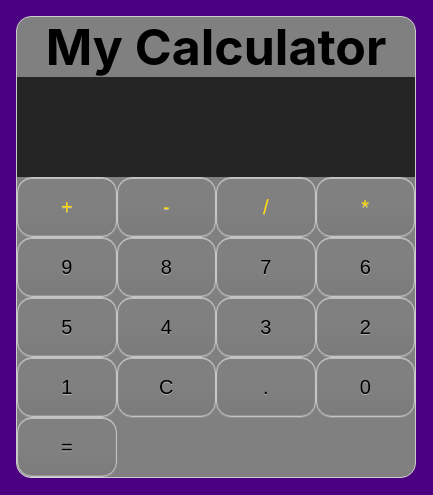
Scenario: should display 3 when user enters 6/2
Click the button "6" at (365, 267), box [316,237,415,297]
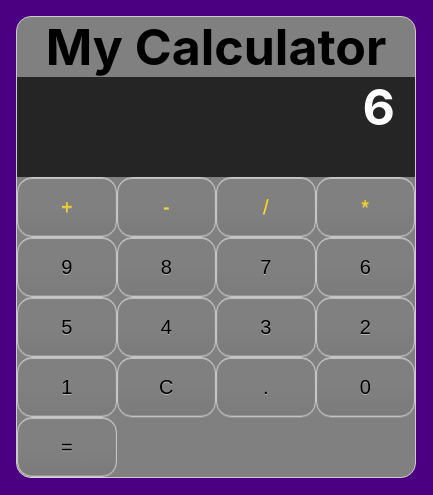
Click the button "/" at (266, 207), box [216,177,316,237]
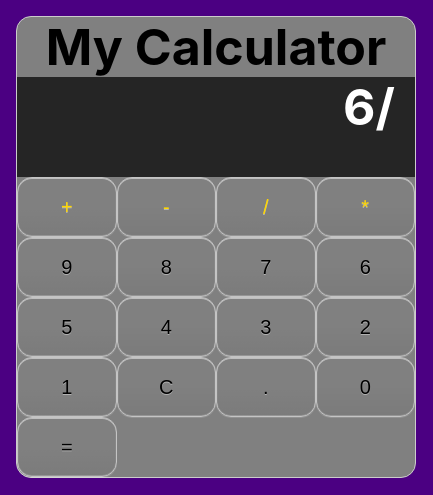
Click the button "2" at (365, 327), box [316,297,415,357]
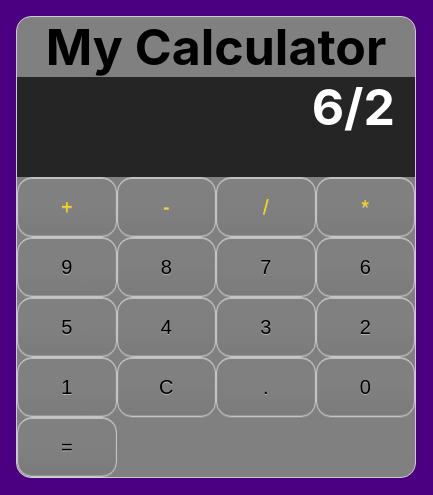
Click the button "=" at (67, 447), box [17,417,116,477]
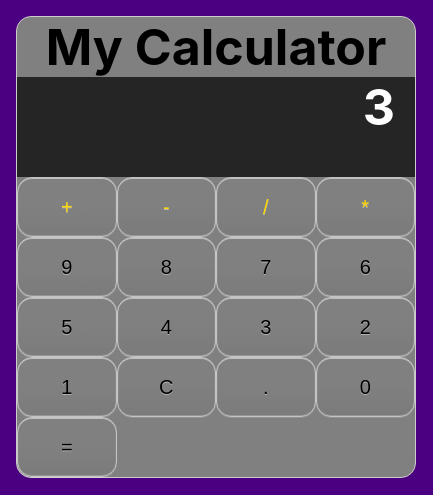
Check: the heading with test id "display" reads "3", box [363,77,395,137]
